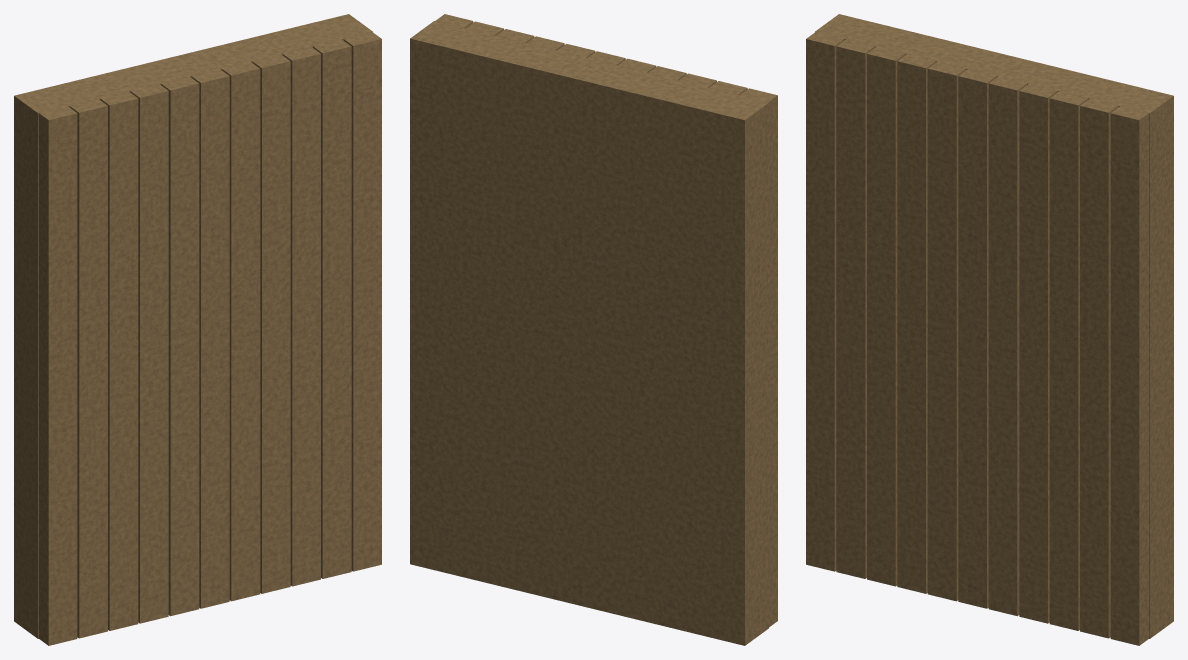
File: TUNN21CC_lod2.glb
3 renders of one model, left to right at view 1: azimuth 30°, elevation 25°; view 2: azimuth 150°, elevation 25°; view 3: azimuth 330°, elevation 25°, orthographic.
Parts seen in each view (by area): view 1: TUNN21CC_LOD2; view 2: TUNN21CC_LOD2; view 3: TUNN21CC_LOD2.
Boxes of the visible parts, <box> form: TUNN21CC_LOD2: <box>14,14,381,645</box>; TUNN21CC_LOD2: <box>410,14,777,645</box>; TUNN21CC_LOD2: <box>806,14,1173,645</box>.
Bounding box in the file's own units: 2 × 3 × 0.35.
2 materials, 2 textured.
